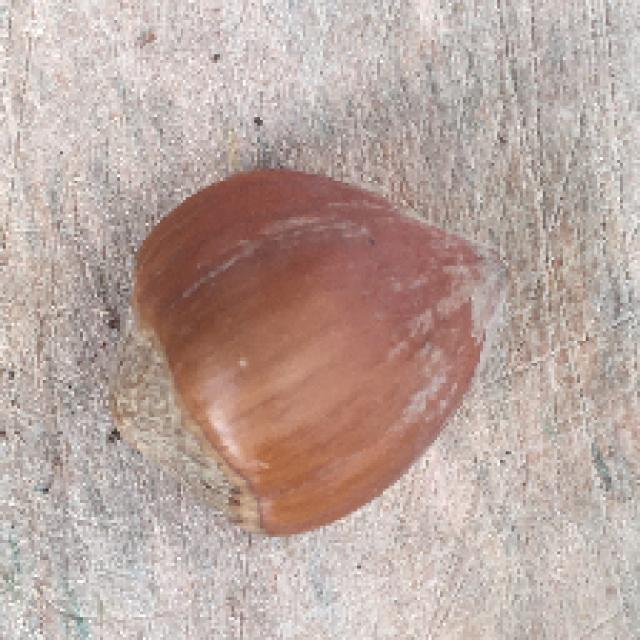damagedHazelnut: (109, 163, 514, 547)
